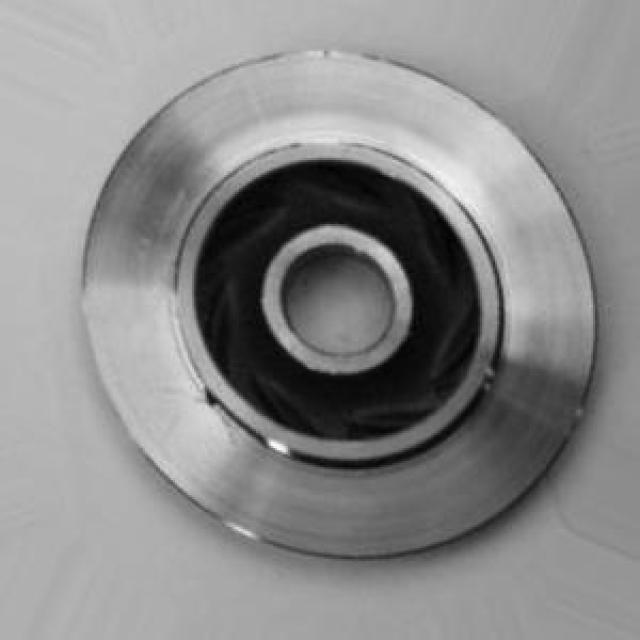Defect: (195, 384, 226, 418)
